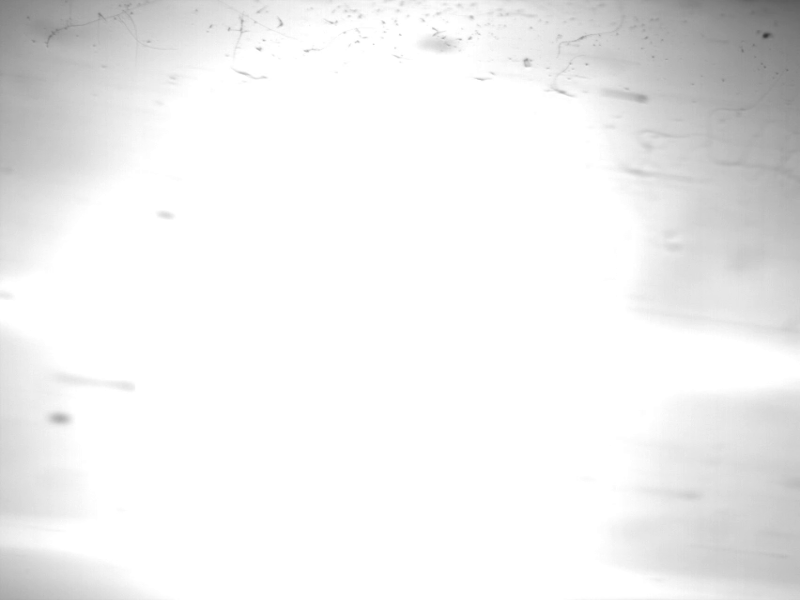bead: (417, 32, 459, 54), (46, 408, 75, 428), (155, 208, 177, 222), (634, 91, 648, 104)
fiber: (702, 69, 799, 184), (633, 128, 798, 169), (42, 1, 150, 49), (553, 1, 628, 57), (213, 1, 302, 42), (118, 7, 178, 64), (46, 365, 137, 398), (229, 14, 270, 82), (549, 50, 588, 99), (96, 9, 107, 48)
